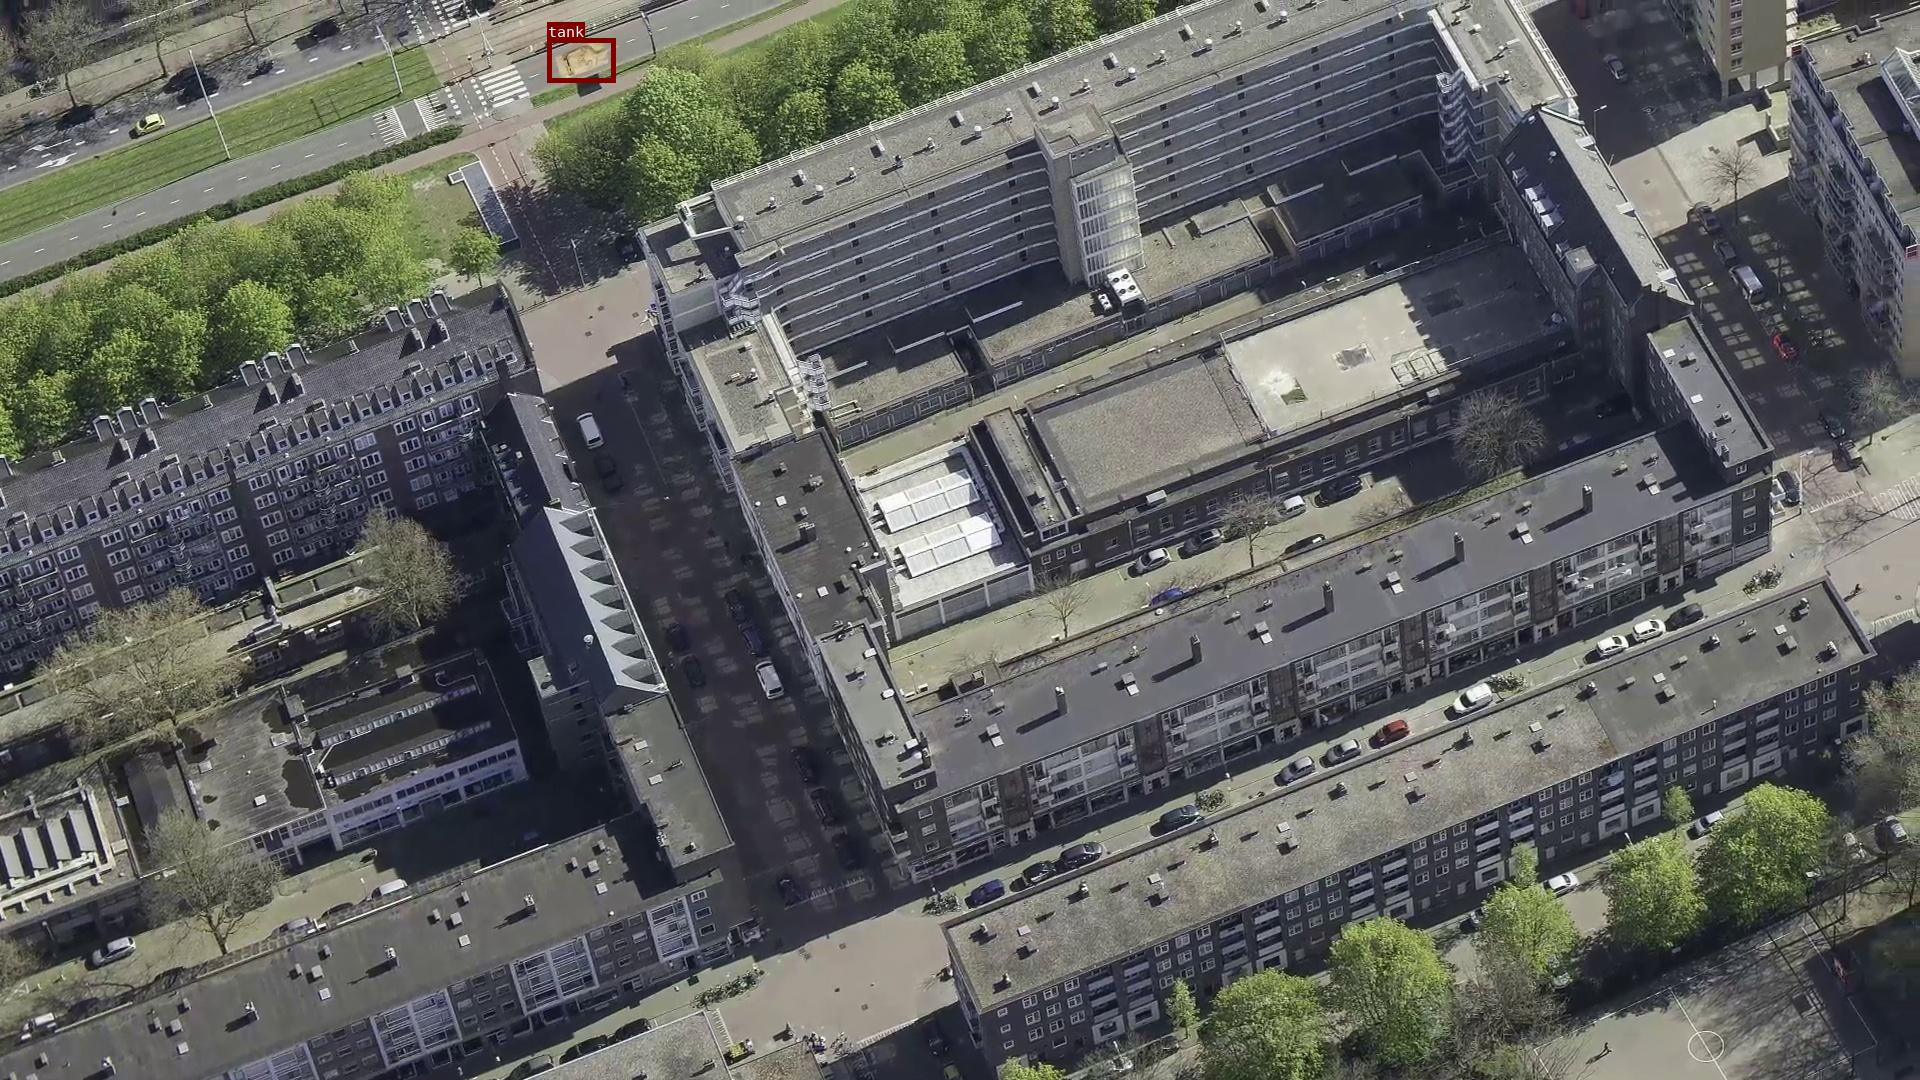tank: (547, 38, 615, 82)
